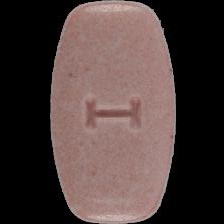31722-827: (0, 0, 224, 224)
